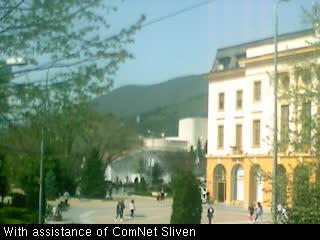person: (255, 202, 263, 223), (115, 201, 123, 221), (119, 199, 126, 219), (129, 200, 136, 219), (207, 206, 214, 224), (277, 202, 283, 221), (248, 202, 254, 220), (63, 191, 69, 205), (160, 187, 165, 202), (202, 187, 207, 202), (122, 185, 127, 196), (115, 184, 119, 195), (157, 192, 160, 201)
